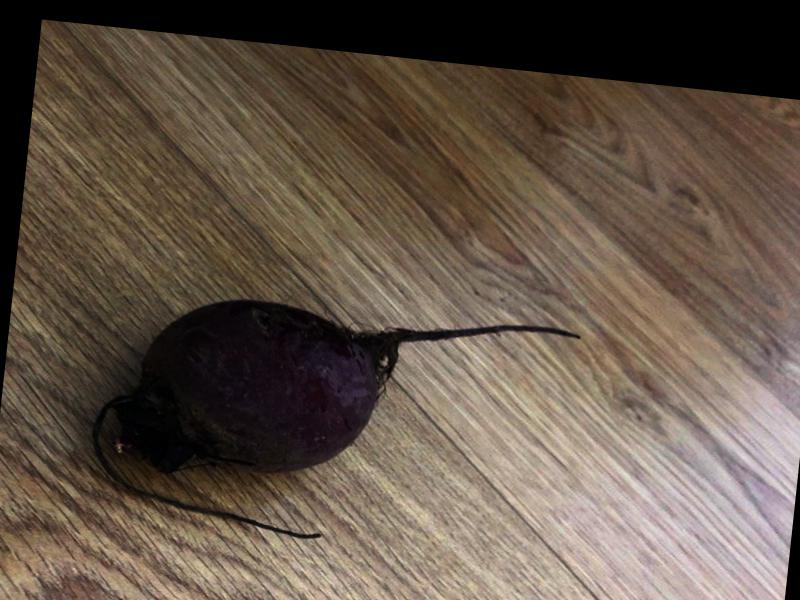Beet: (84, 279, 581, 564)
